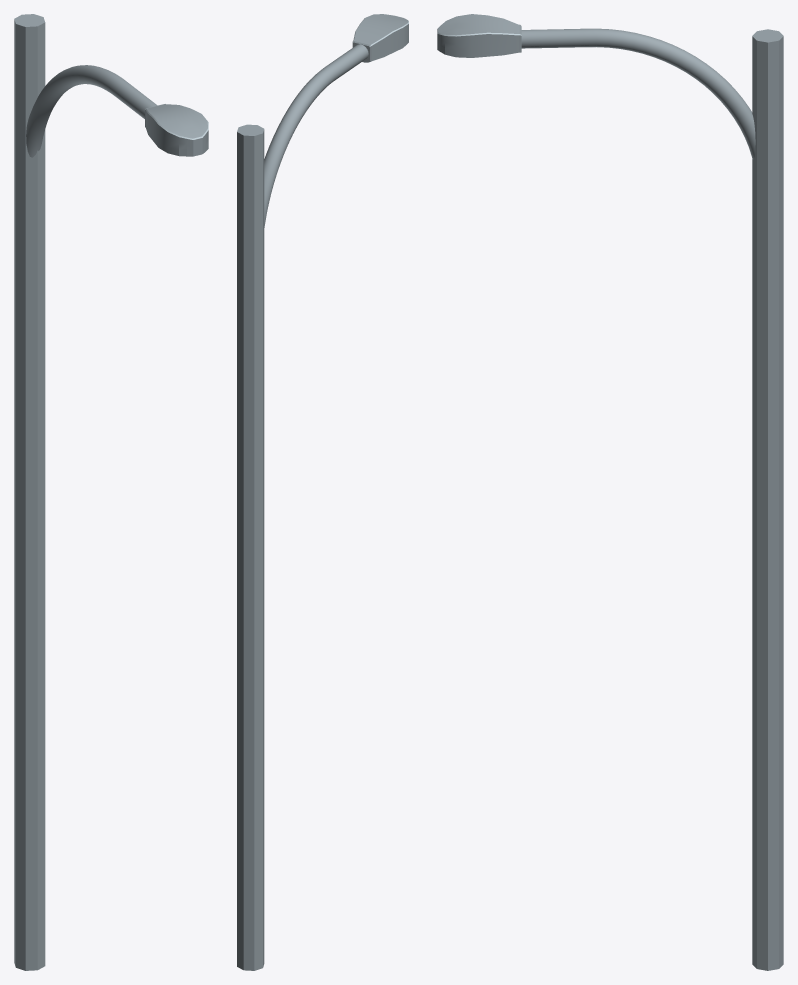
The model's file is LightPole.fbx.
3 renders of one model, left to right at view 1: azimuth 30°, elevation 25°; view 2: azimuth 150°, elevation 25°; view 3: azimuth 270°, elevation 25°, orthographic. The views are drawn at different scales.
Visible parts, largest first — view 1: LightPoleStem, LightPoleArm, LightPoleGlobe; view 2: LightPoleStem, LightPoleArm, LightPoleGlobe; view 3: LightPoleStem, LightPoleArm, LightPoleGlobe.
Boxes of the visible parts, x1,y1,x2,y2 form: LightPoleStem: (14, 14, 45, 970); LightPoleArm: (26, 65, 157, 157); LightPoleGlobe: (145, 104, 208, 156); LightPoleStem: (237, 124, 264, 970); LightPoleArm: (264, 44, 368, 227); LightPoleGlobe: (352, 14, 408, 62); LightPoleStem: (752, 29, 783, 970); LightPoleArm: (521, 28, 755, 159); LightPoleGlobe: (437, 14, 521, 57).
Size of the model in its own units: 31.4 by 658 by 220.
